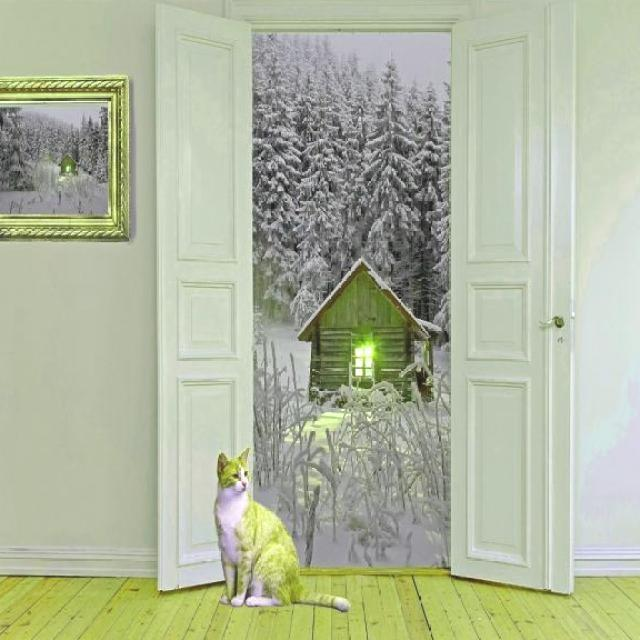door: (448, 2, 574, 594)
